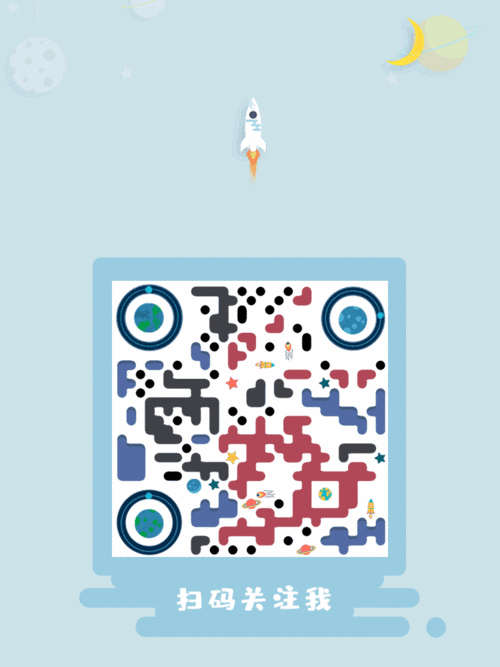QRCode: (115, 282, 389, 556)
